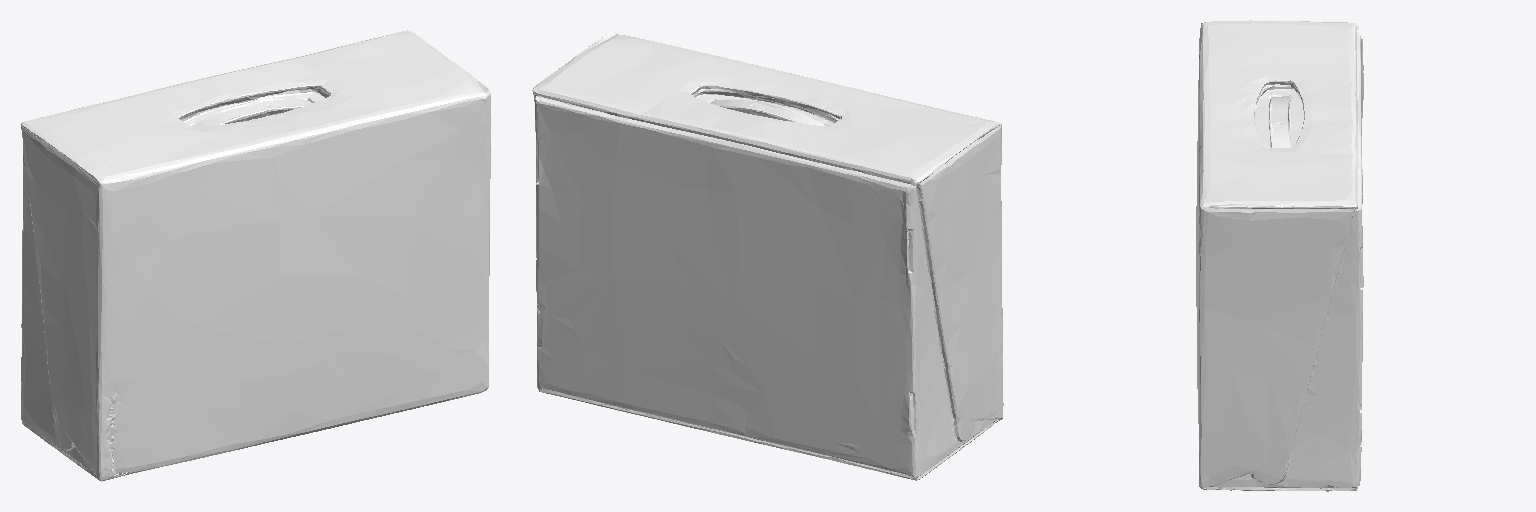
The robot description file, URDF, robot "LEGO_Bricks_More_Creative_Suitcase":
<?xml version="1.0" ?>
<robot name="LEGO_Bricks_More_Creative_Suitcase">
  <link name="link_0">
    <inertial>
      <origin xyz="0 0 0" rpy="0 0 0"/>
      <mass value="1.0"/>
      <inertia ixx="0.1" ixy="0.0" ixz="0.0" iyy="0.1" iyz="0.0" izz="0.1"/>
    </inertial>
    <visual name="visual">
      <origin xyz="0 0 0" rpy="0 0 0"/>
      <geometry>
        <mesh filename="meshes/model.obj"/>
      </geometry>
      <material name="white">
        <color rgba="1 1 1 1"/>
      </material>
    </visual>
    <collision name="collision_0">
      <origin xyz="0 0 0" rpy="0 0 0"/>
      <geometry>
        <mesh filename="meshes/model.obj"/>
      </geometry>
    </collision>
  </link>
</robot>

--- Facts derived from the render (not from the file) ---
The picture shows the robot from 3 angles, left to right: view 1: azimuth 30°, elevation 25°; view 2: azimuth 150°, elevation 25°; view 3: azimuth 270°, elevation 25°; orthographic projection.
Model LEGO_Bricks_More_Creative_Suitcase with 1 links and 0 joints (none), rooted at link_0, posed every joint at zero.
Links seen in each view (by area): view 1: link_0; view 2: link_0; view 3: link_0.
Boxes of the visible links, x1,y1,x2,y2 form: link_0: (21,30,490,481); link_0: (532,31,1003,480); link_0: (1196,20,1363,491).
Size in the robot's own frame: 0.3811 by 0.147 by 0.2838 metres.
1 mesh visuals loaded from 1 distinct referenced files (1 OBJ).